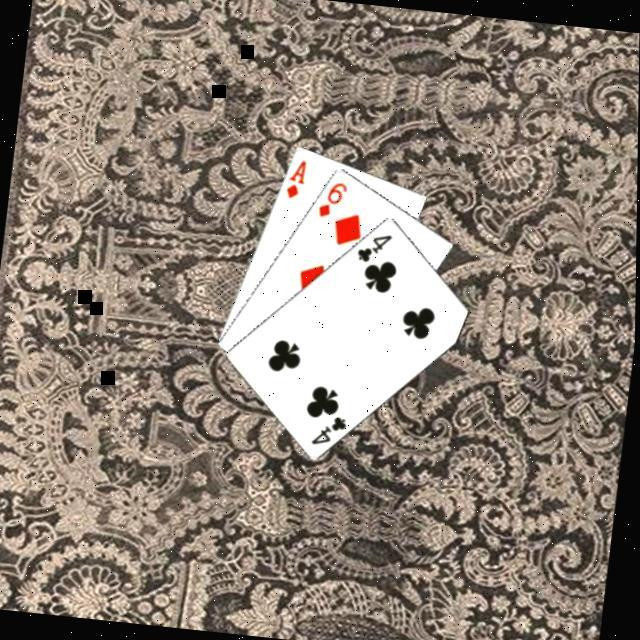4C: (351, 228, 394, 268), (307, 410, 350, 450)
6D: (313, 178, 350, 223)
AD: (281, 156, 309, 202)
